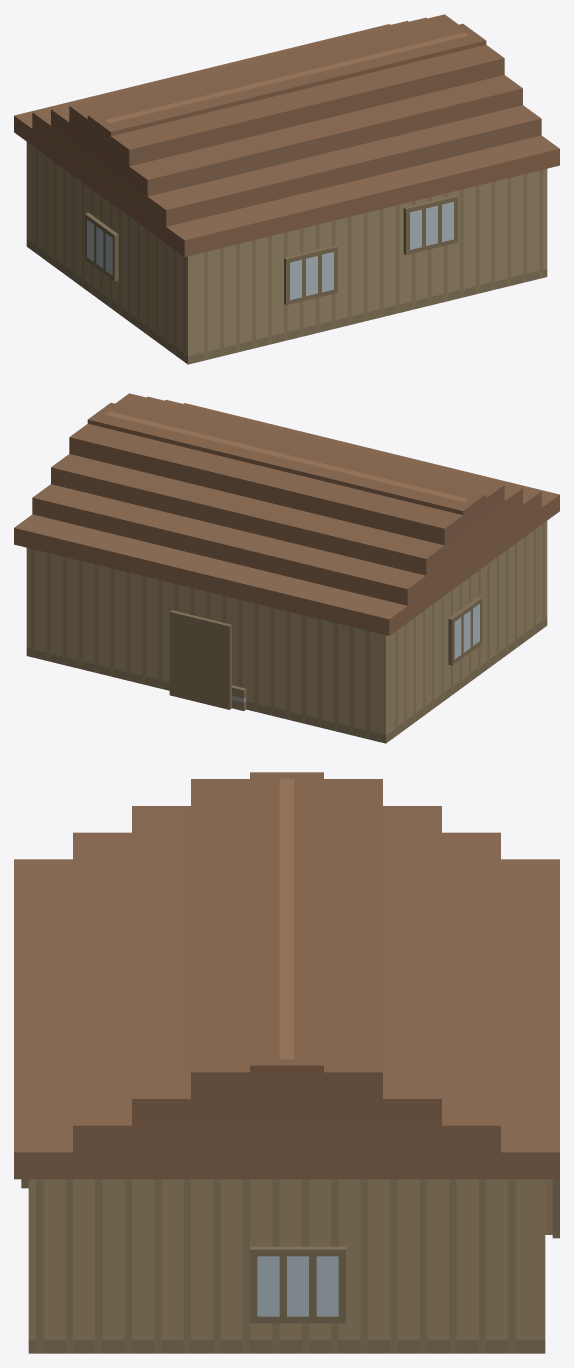
File: cocina_comunal_03.glb
3 views of the same model, one above another, from view 1: azimuth 30°, elevation 25°; view 2: azimuth 150°, elevation 25°; view 3: azimuth 270°, elevation 25° (orthographic). The views are drawn at different scales.
Visible parts, largest first — view 1: cocina_comunal_03; view 2: cocina_comunal_03; view 3: cocina_comunal_03.
Part boxes in pixels (left/top/right/bottom): cocina_comunal_03: left=14, top=14, right=559, bottom=364; cocina_comunal_03: left=14, top=393, right=559, bottom=743; cocina_comunal_03: left=14, top=772, right=559, bottom=1353.
Bounding box in the file's own units: 9.4 × 4.4 × 7.4.
